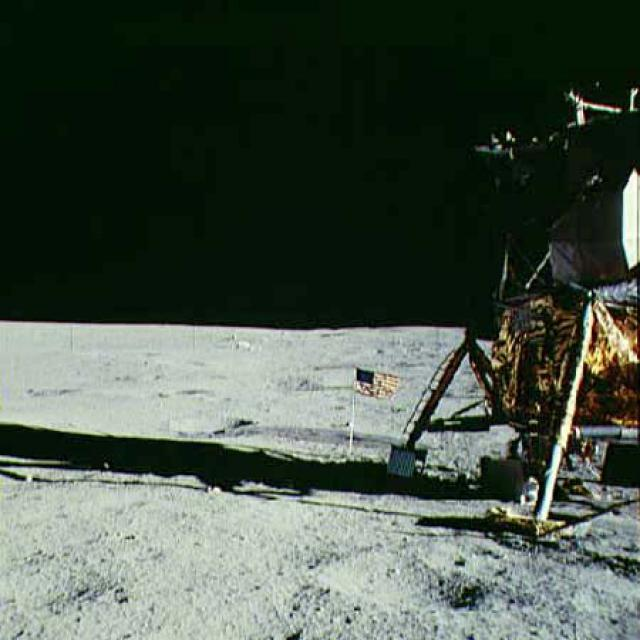crater: (306, 524, 549, 624), (0, 527, 164, 628), (1, 366, 210, 410), (157, 404, 281, 448)
